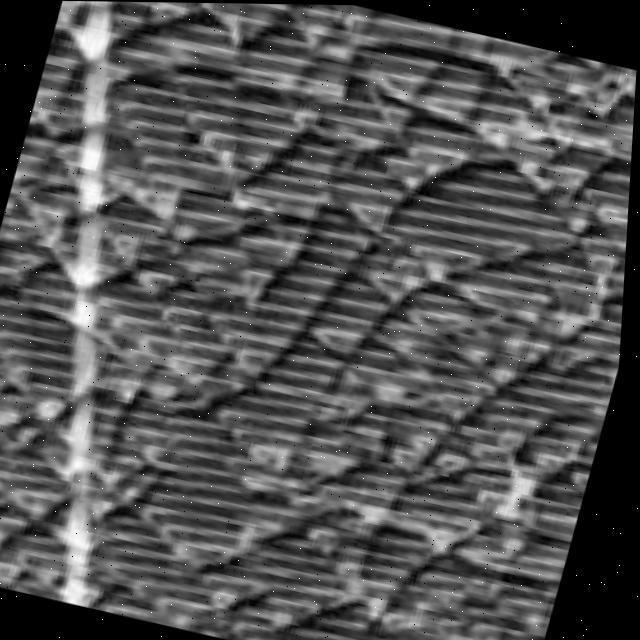Structural Damage: (0, 1, 637, 640)
